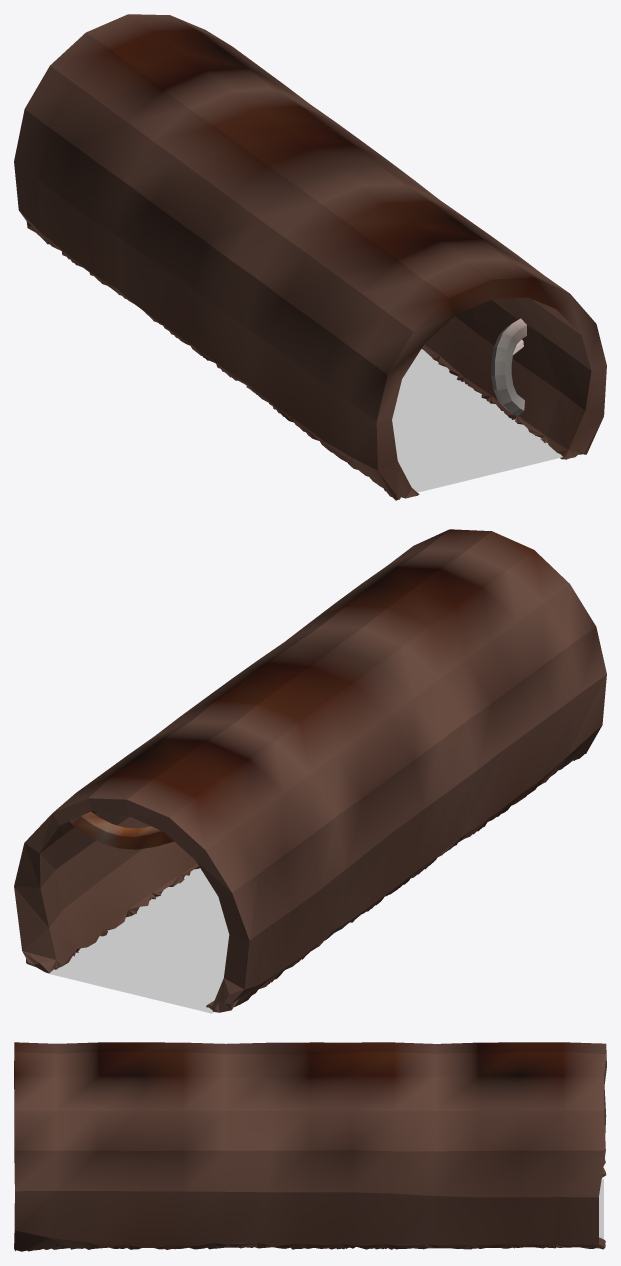
Rendered from Tunnel.fbx.
3 renders of one model, top to bottom at view 1: azimuth 30°, elevation 25°; view 2: azimuth 150°, elevation 25°; view 3: azimuth 270°, elevation 25°, orthographic. The views are drawn at different scales.
Visible parts, largest first — view 1: Cylindre, Plan, Tube; view 2: Cylindre, Plan, Tube; view 3: Cylindre.
Boxes of the visible parts, box(x1,y1,x2,y2) form: Cylindre: box(14, 14, 606, 500); Plan: box(392, 349, 562, 492); Tube: box(491, 318, 526, 416); Cylindre: box(14, 529, 606, 1012); Plan: box(47, 868, 229, 1013); Tube: box(70, 811, 174, 849); Cylindre: box(14, 1042, 606, 1251).
Bounding box in the file's own units: 1.24 × 1 × 3.32.
